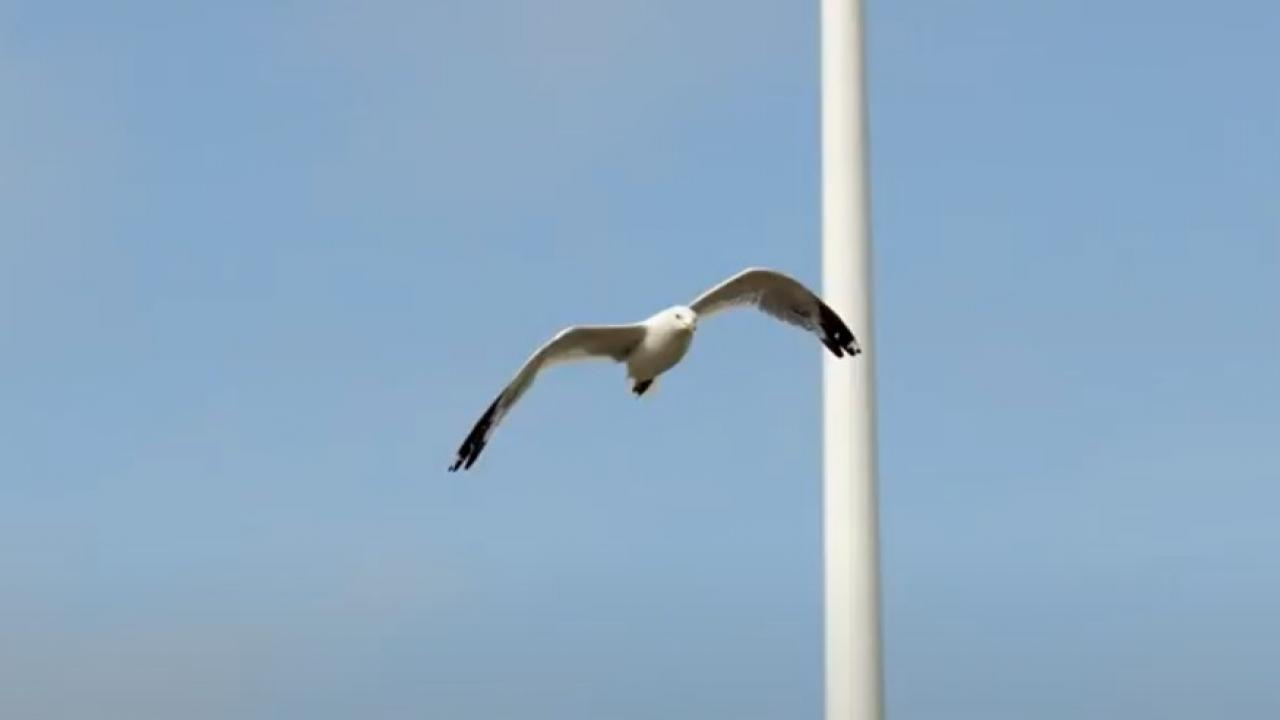Bird: (438, 258, 869, 486)
